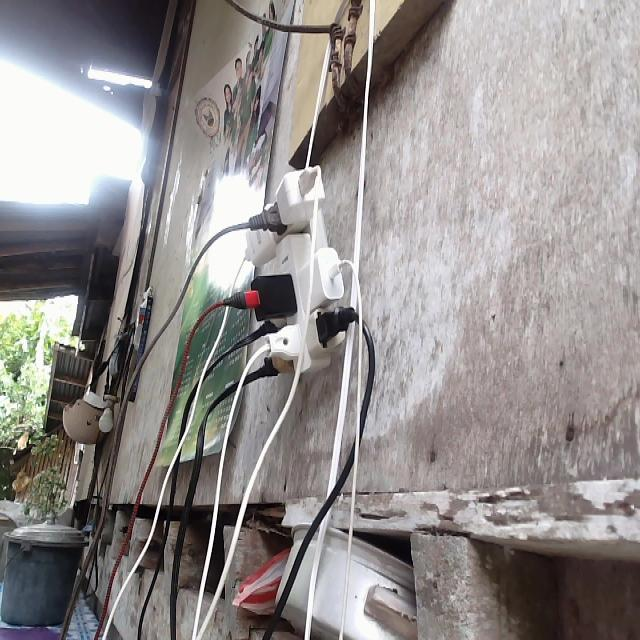-: (232, 162, 355, 378)
